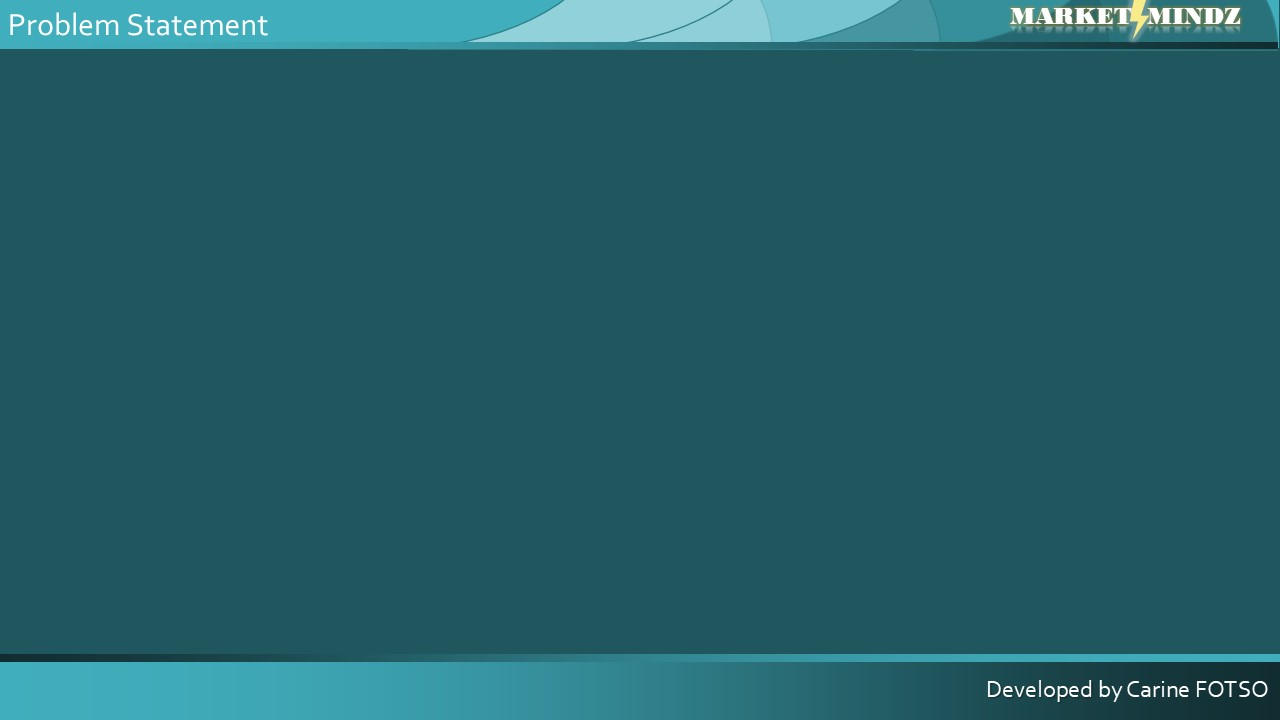

This screenshot's page, from the dashboard's own definition file:
{"tool":"powerbi","page":{"name":"Problem Statement","canvas":[1280,720],"ordinal":0},"visuals":[{"type":"textbox","box":[30.2,87.5,625.4,540.8],"z":0},{"type":"shape","box":[670.2,97.3,86.6,66.1],"z":1000},{"type":"textbox","box":[672.1,98.2,84.6,64.2],"z":2000},{"type":"shape","box":[668.5,219.1,86.6,66.1],"z":3000},{"type":"textbox","box":[670.4,224.8,84.6,64.2],"z":4000},{"type":"shape","box":[668.5,346.5,86.6,66.1],"z":5000},{"type":"textbox","box":[670.4,348.4,84.6,64.2],"z":6000},{"type":"shape","box":[671.4,471,86.6,66.1],"z":7000},{"type":"textbox","box":[673.3,472,84.6,64.2],"z":8000},{"type":"textbox","box":[784.9,98.2,466.9,82.7],"z":9000},{"type":"textbox","box":[784.9,218.8,466.9,82.7],"z":10000},{"type":"textbox","box":[784.9,346.3,466.9,82.7],"z":11000},{"type":"textbox","box":[767.4,463,468.8,111.9],"z":12000}]}

Visuals, with their boxes in screenshot pixels (x1, y1, x2, y2), scaled from the page's 1280x720 canvas onto the 1280x720 screenshot:
textbox: (30, 88, 656, 628)
shape: (670, 97, 757, 163)
textbox: (672, 98, 757, 162)
shape: (668, 219, 755, 285)
textbox: (670, 225, 755, 289)
shape: (668, 346, 755, 413)
textbox: (670, 348, 755, 413)
shape: (671, 471, 758, 537)
textbox: (673, 472, 758, 536)
textbox: (785, 98, 1252, 181)
textbox: (785, 219, 1252, 302)
textbox: (785, 346, 1252, 429)
textbox: (767, 463, 1236, 575)
